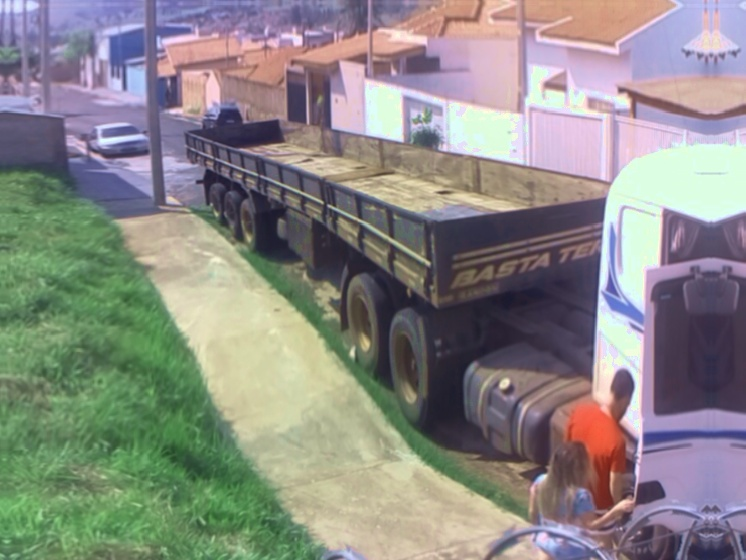person: (561, 362, 635, 560), (526, 439, 634, 560)
